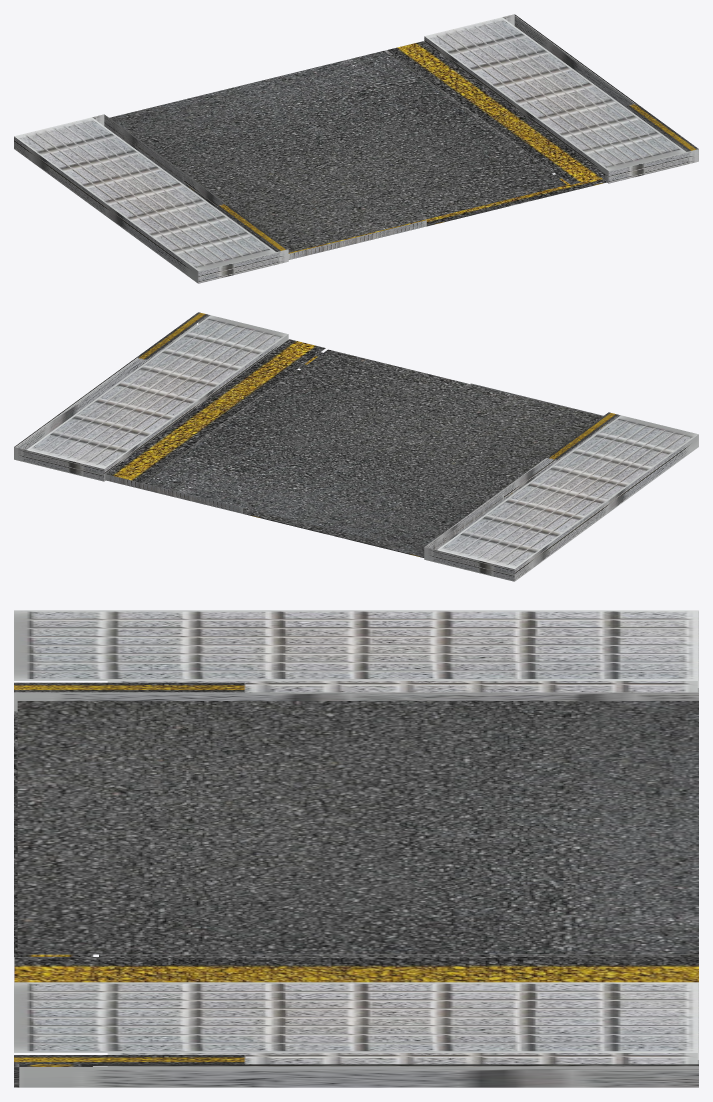
File: street_way.fbx
The picture shows the model from 3 angles, top to bottom: view 1: azimuth 30°, elevation 25°; view 2: azimuth 150°, elevation 25°; view 3: azimuth 270°, elevation 25°; orthographic projection. The views are drawn at different scales.
Visible parts, largest first — view 1: Calle Estandar/Ruta Recta Con Vereda; view 2: Calle Estandar/Ruta Recta Con Vereda; view 3: Calle Estandar/Ruta Recta Con Vereda.
Part boxes in pixels (x1,y1,x2,y2): Calle Estandar/Ruta Recta Con Vereda: (14,14,698,283); Calle Estandar/Ruta Recta Con Vereda: (14,312,698,581); Calle Estandar/Ruta Recta Con Vereda: (14,610,698,1087).
Bounding box in the file's own units: 1039 × 25 × 663.
1 material, 1 textured.
